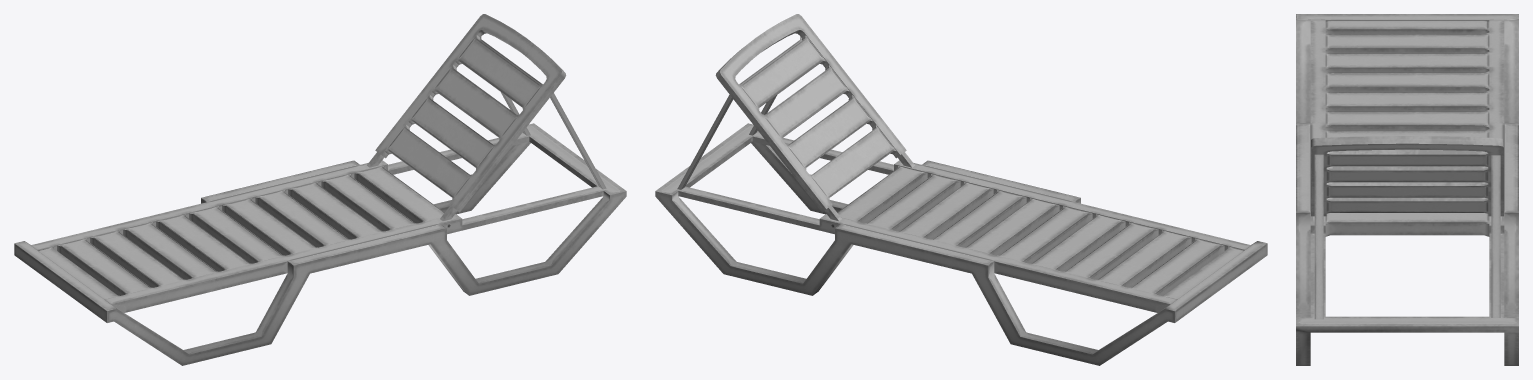
Rendered from MB_Sunbed.fbx.
3 views of the same model, side by side, from view 1: azimuth 30°, elevation 25°; view 2: azimuth 150°, elevation 25°; view 3: azimuth 270°, elevation 25° (orthographic). The views are drawn at different scales.
Parts seen in each view (by area): view 1: MB_Sunbed_LOD0; view 2: MB_Sunbed_LOD0; view 3: MB_Sunbed_LOD0.
Part boxes in pixels (left/top/right/bottom): MB_Sunbed_LOD0: left=14, top=14, right=626, bottom=365; MB_Sunbed_LOD0: left=655, top=14, right=1267, bottom=365; MB_Sunbed_LOD0: left=1296, top=14, right=1518, bottom=365.
Size of what is drawn, in the model's own units: 216 by 79 by 66.9.
